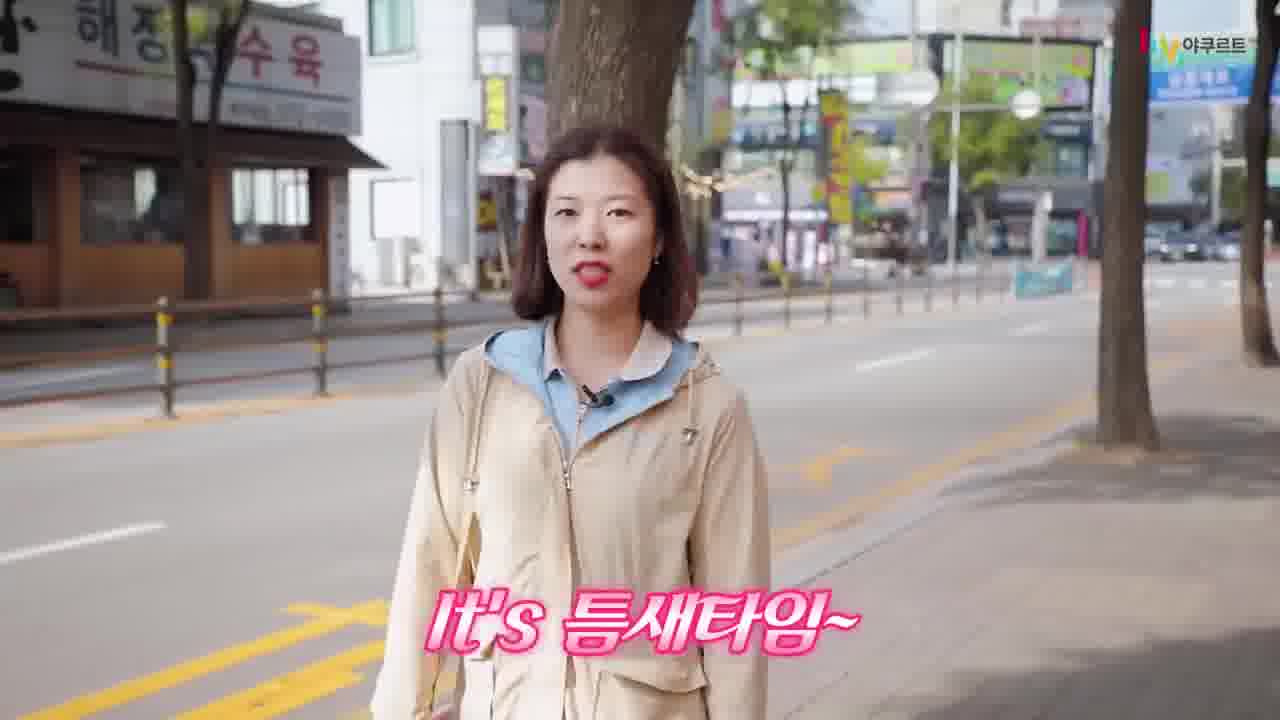Yakurut: (293, 77, 880, 720)
